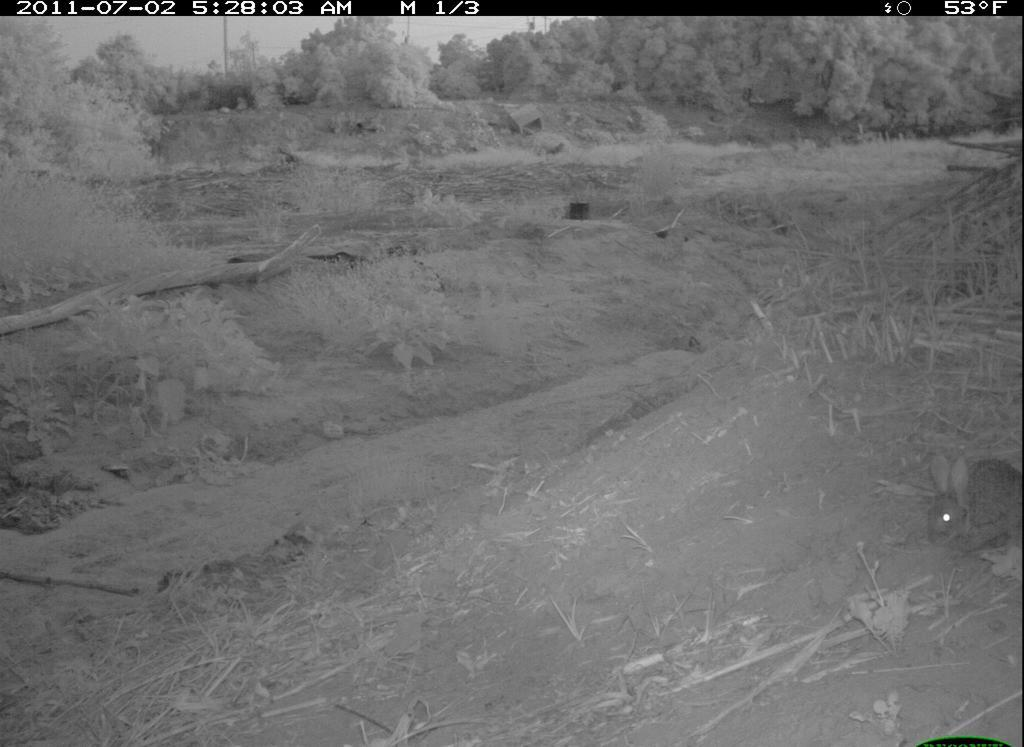rabbit: (913, 440, 1023, 569)
